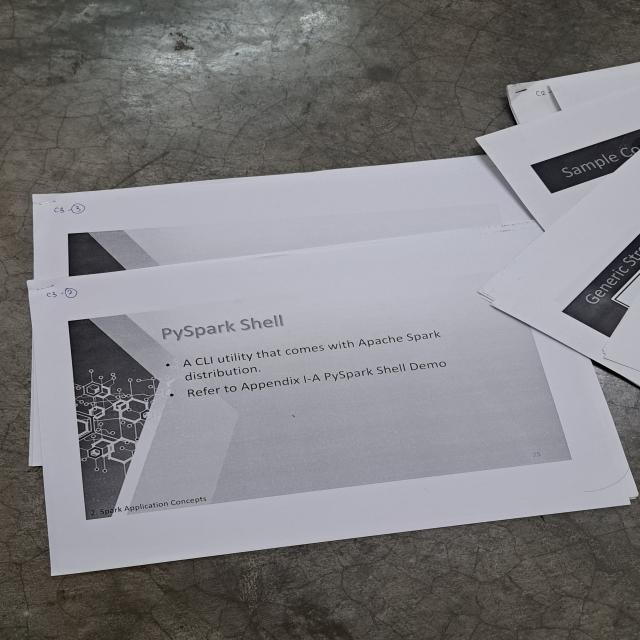paper: (26, 62, 640, 576)
